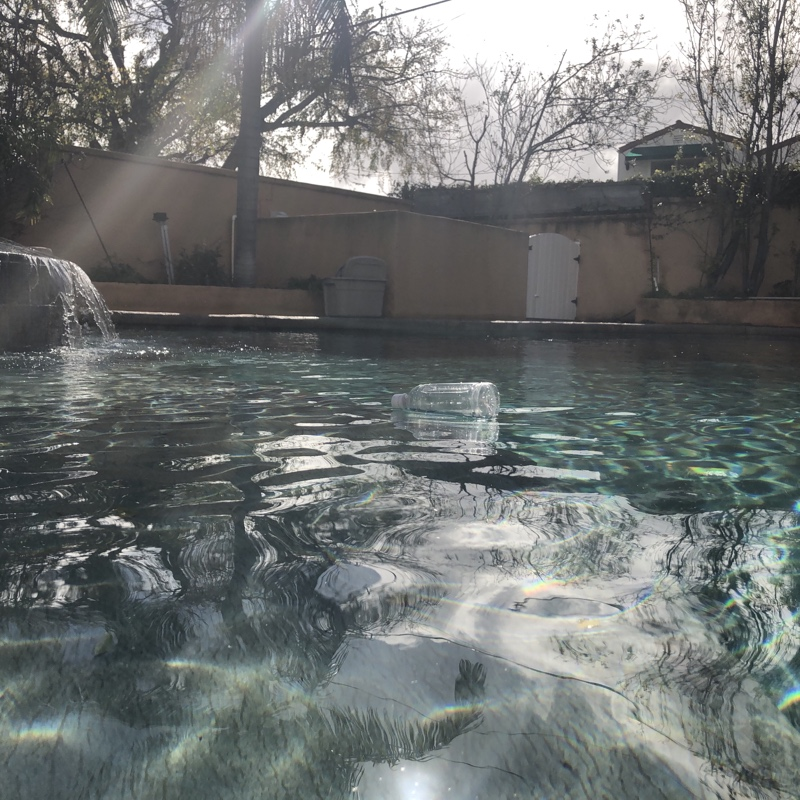Plastic Bottle: (384, 375, 502, 427)
